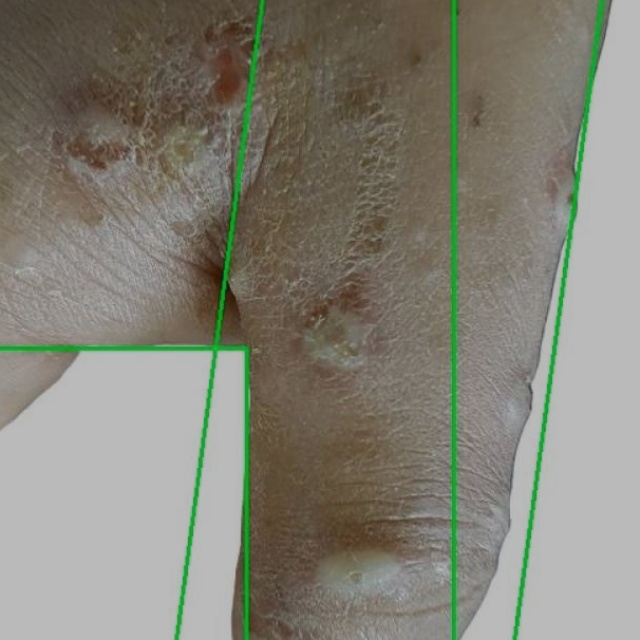Scabies: (176, 0, 602, 639), (453, 0, 639, 639), (0, 347, 247, 639)
